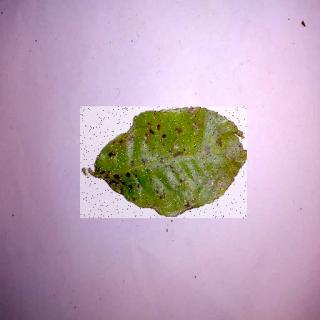Bird Eye Spot: (81, 108, 248, 220)
